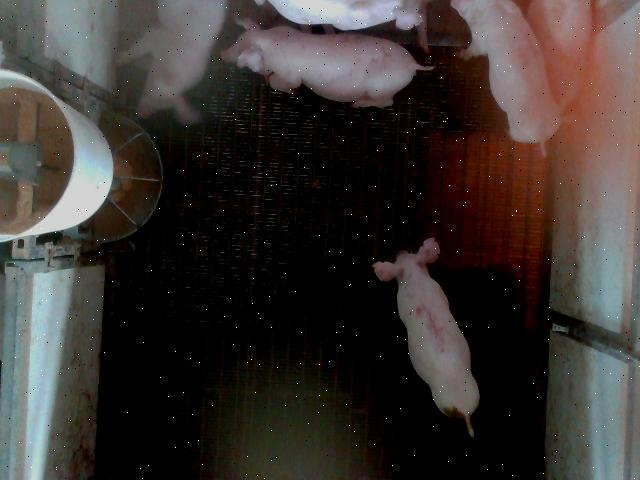pig-4: (451, 1, 561, 142)
pig-5: (372, 238, 480, 436)
